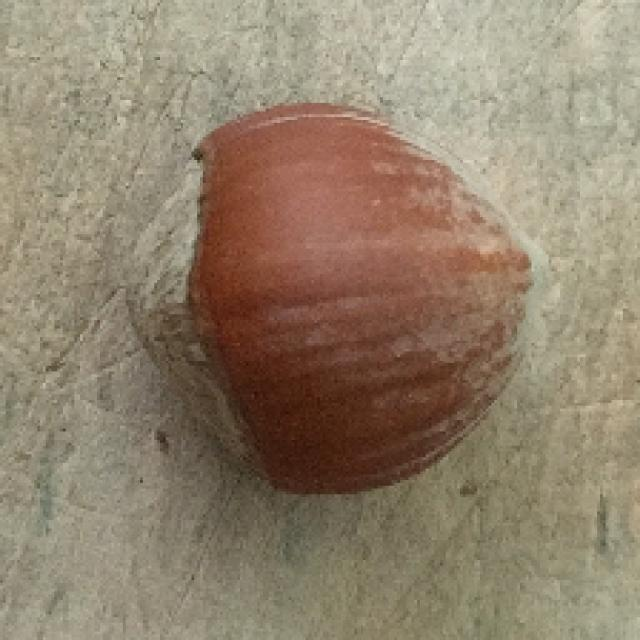qualityHazelnut: (119, 90, 547, 517)
